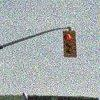traffic lights: (63, 30, 75, 57)
